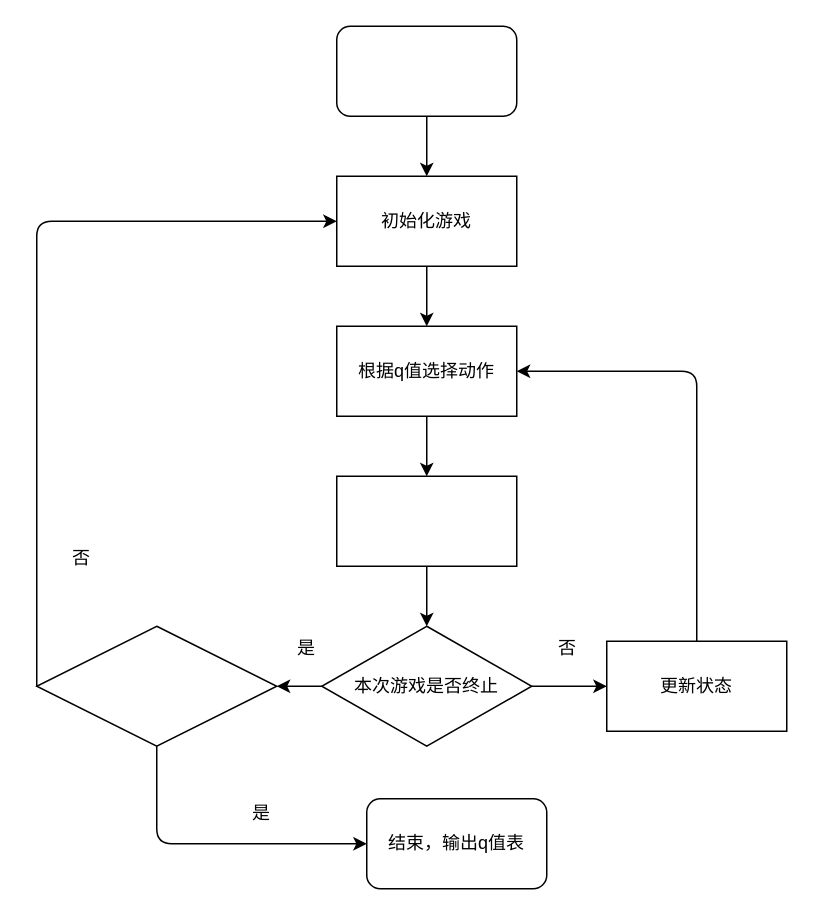
The diagram is 813 pixels wide and 915 high, and some of its shapes have lost their labels. Each missing label, with the centre of its shape:
q值更新: pixel 426 520
开始: pixel 426 70
是否达到最大游戏次数: pixel 156 685
